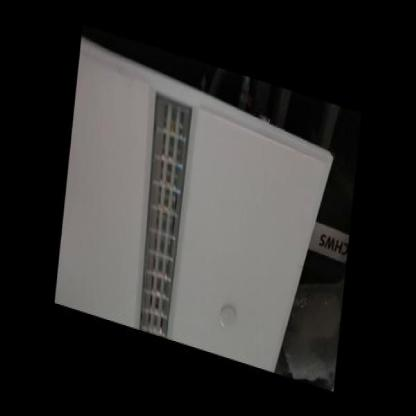light_off: (125, 76, 202, 341)
